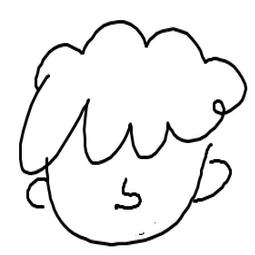ear: (191, 156, 236, 208), (25, 175, 56, 215)
nose: (107, 174, 148, 212)
